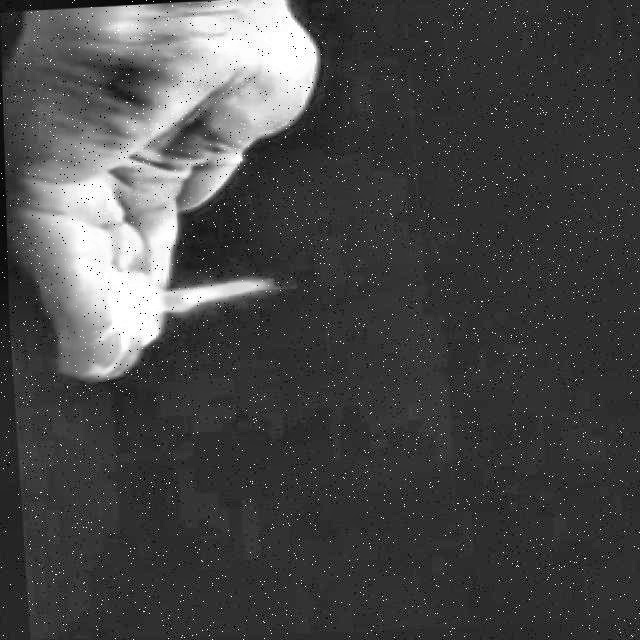Fire: (106, 270, 279, 320)
